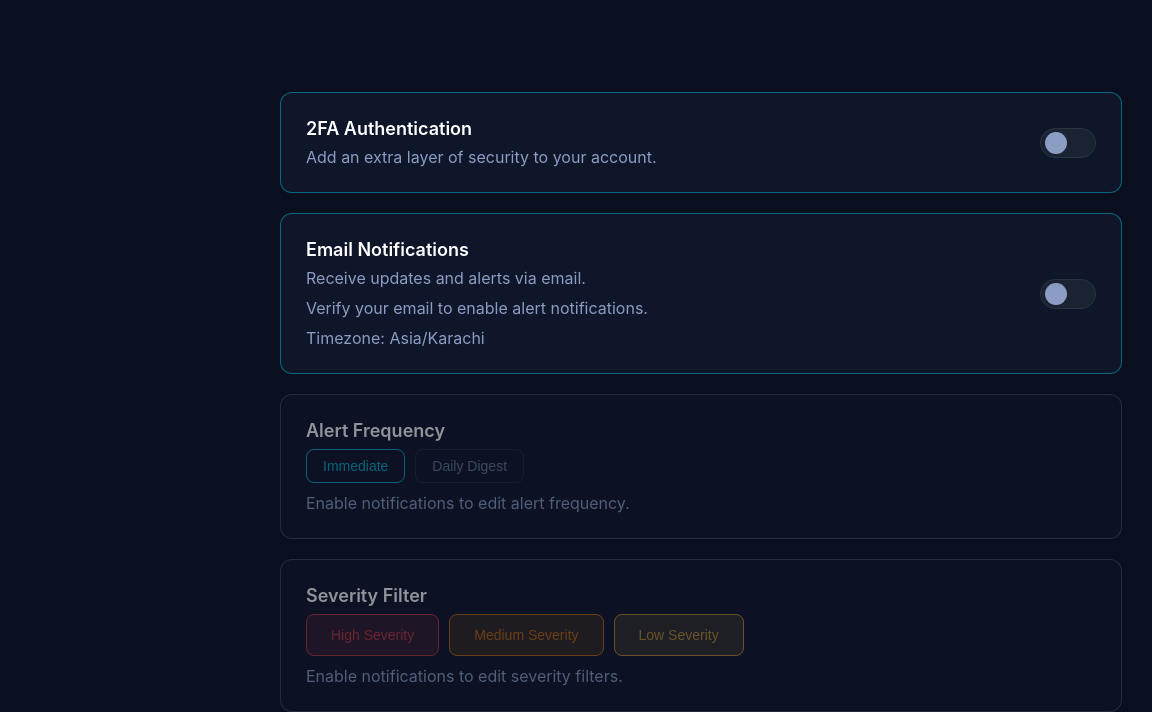
Test: cannot enable notifications when email is unverified
Click the checkbox named "Email notifications toggle" at (1068,294), box [1040, 278, 1096, 308]
(page scrolled)
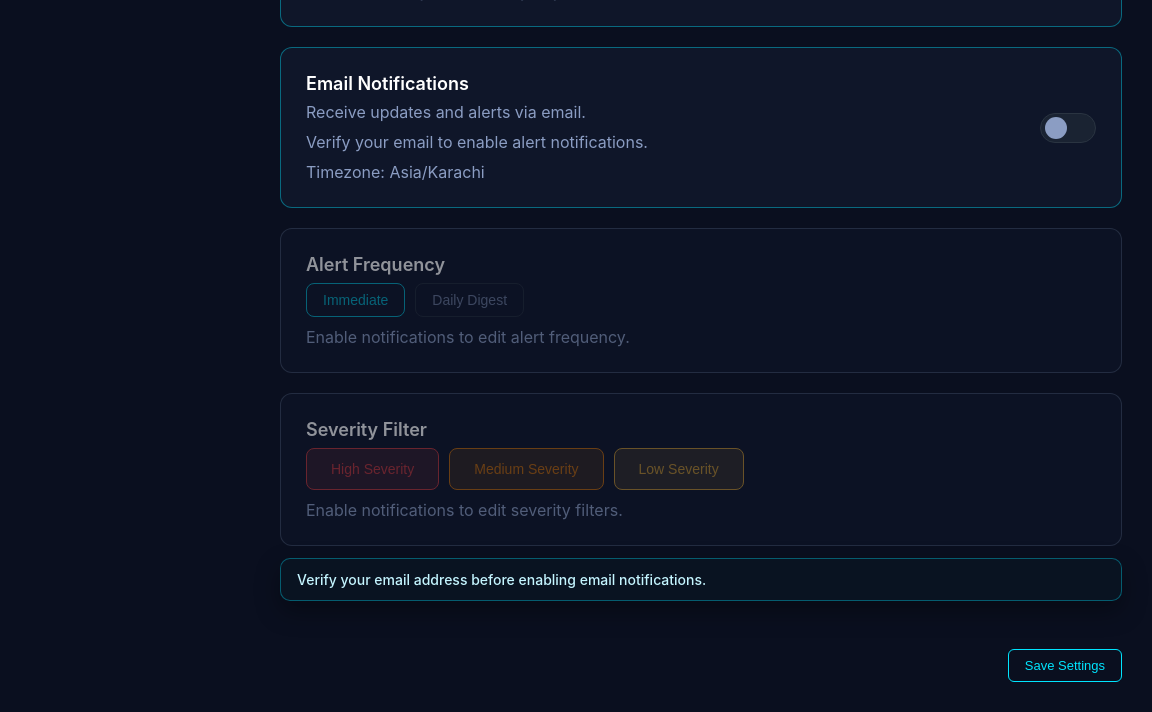
Expected: the checkbox named "Email notifications toggle" is not checked, [1040, 112, 1096, 142]
Now the text "Verify your email address before enabling email notifications." is shown, box [280, 558, 1122, 601]
